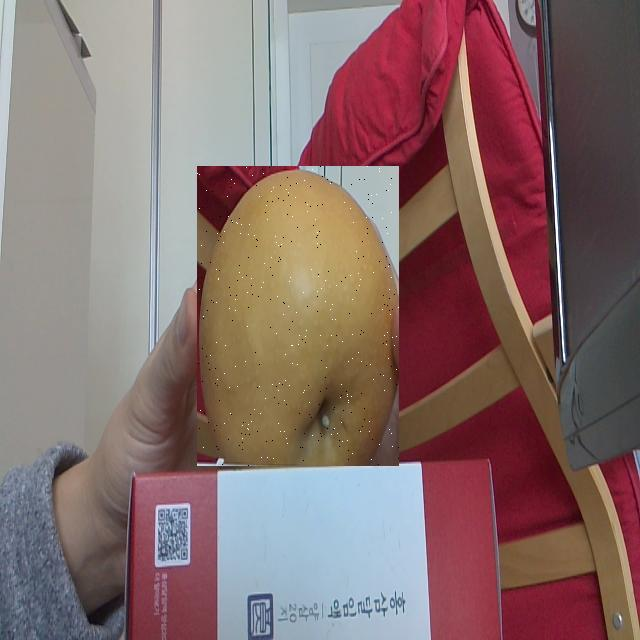pear: (197, 166, 399, 466)
